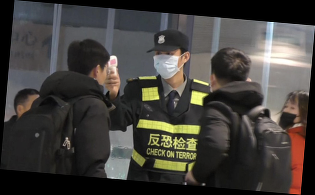with_mask: (151, 50, 181, 81), (279, 102, 299, 129)
